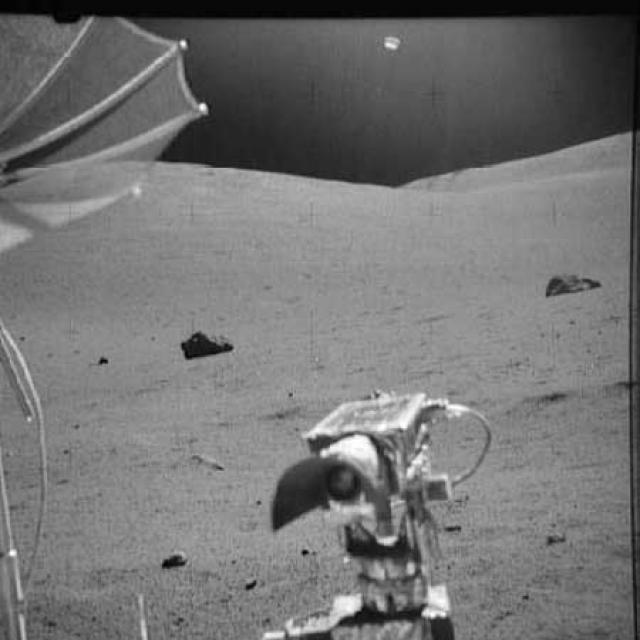artifact: (0, 8, 220, 639), (252, 386, 498, 638)
crater: (505, 375, 638, 414)
rock: (174, 320, 242, 364), (540, 264, 604, 302), (156, 540, 193, 576)
